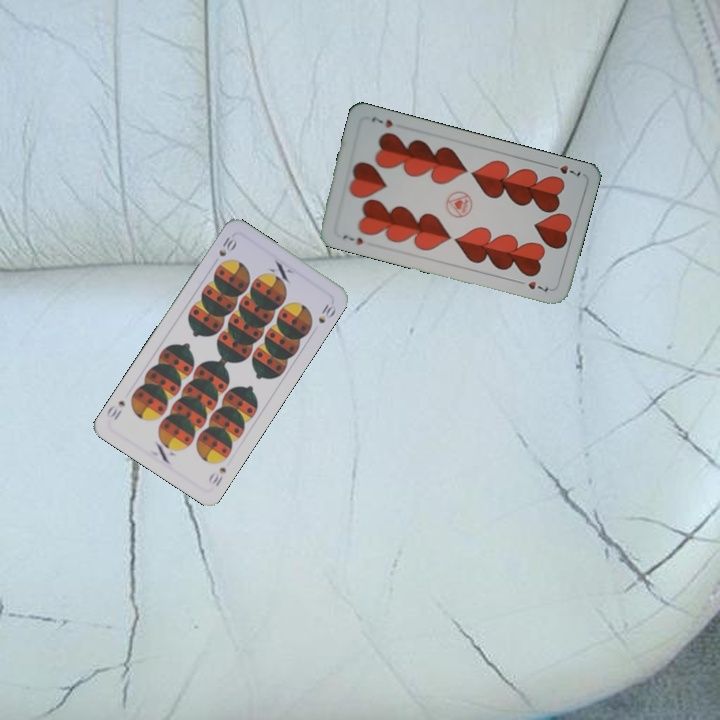H7: (545, 160, 583, 179), (339, 231, 366, 248)
S10: (204, 463, 229, 489), (214, 233, 238, 259)
